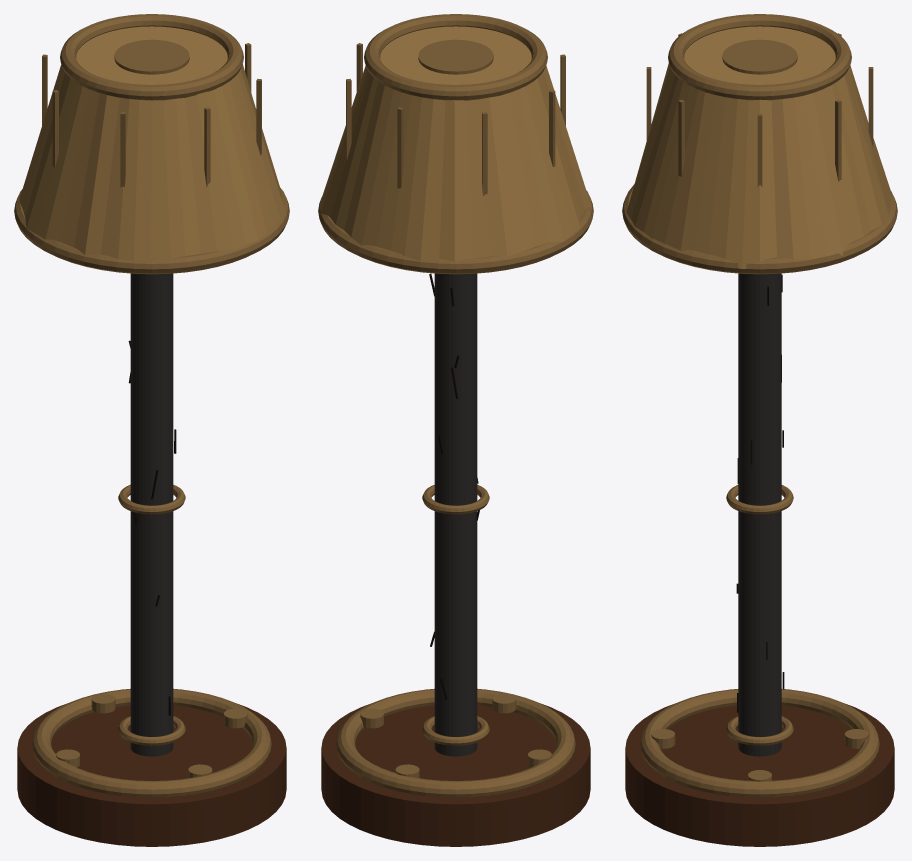
Rendered from lamp.glb.
3 renders of one model, left to right at view 1: azimuth 30°, elevation 25°; view 2: azimuth 150°, elevation 25°; view 3: azimuth 270°, elevation 25°, orthographic.
Visible parts, largest first — view 1: Baked Color Lamp Shade, Heavy Lamp Base, Vertical Lamp Pole, Brass Base Ring, Shade Top Brass Ring, Shade Bottom Brass Ring, Shade Support, Pole Brass Ring 2, Pole Brass Ring 1, Shade Decorative Band 7; view 2: Baked Color Lamp Shade, Heavy Lamp Base, Vertical Lamp Pole, Brass Base Ring, Shade Top Brass Ring, Shade Bottom Brass Ring, Shade Support, Pole Brass Ring 2, Pole Brass Ring 1, Shade Decorative Band 3; view 3: Baked Color Lamp Shade, Heavy Lamp Base, Vertical Lamp Pole, Brass Base Ring, Shade Top Brass Ring, Shade Bottom Brass Ring, Shade Support, Pole Brass Ring 2, Pole Brass Ring 1, Shade Decorative Band 2.
Boxes of the visible parts, x1=… form: Baked Color Lamp Shade: x1=20, y1=26, x2=285, y2=260; Heavy Lamp Base: x1=17, y1=703, x2=286, y2=846; Vertical Lamp Pole: x1=130, y1=273, x2=173, y2=756; Brass Base Ring: x1=32, y1=688, x2=271, y2=797; Shade Top Brass Ring: x1=60, y1=14, x2=243, y2=100; Shade Bottom Brass Ring: x1=14, y1=187, x2=289, y2=274; Shade Support: x1=114, y1=39, x2=189, y2=74; Pole Brass Ring 2: x1=118, y1=484, x2=185, y2=514; Pole Brass Ring 1: x1=118, y1=716, x2=185, y2=745; Shade Decorative Band 7: x1=204, y1=107, x2=210, y2=186; Baked Color Lamp Shade: x1=319, y1=26, x2=590, y2=261; Heavy Lamp Base: x1=321, y1=703, x2=590, y2=846; Vertical Lamp Pole: x1=434, y1=273, x2=477, y2=756; Brass Base Ring: x1=336, y1=688, x2=575, y2=797; Shade Top Brass Ring: x1=364, y1=14, x2=547, y2=100; Shade Bottom Brass Ring: x1=318, y1=190, x2=593, y2=274; Shade Support: x1=418, y1=39, x2=493, y2=74; Pole Brass Ring 2: x1=422, y1=484, x2=489, y2=514; Pole Brass Ring 1: x1=422, y1=716, x2=489, y2=745; Shade Decorative Band 3: x1=397, y1=107, x2=403, y2=188; Baked Color Lamp Shade: x1=626, y1=26, x2=891, y2=268; Heavy Lamp Base: x1=625, y1=703, x2=894, y2=846; Vertical Lamp Pole: x1=738, y1=273, x2=781, y2=756; Brass Base Ring: x1=640, y1=689, x2=879, y2=797; Shade Top Brass Ring: x1=668, y1=14, x2=851, y2=100; Shade Bottom Brass Ring: x1=622, y1=184, x2=897, y2=274; Shade Support: x1=722, y1=39, x2=797, y2=74; Pole Brass Ring 2: x1=726, y1=485, x2=793, y2=514; Pole Brass Ring 1: x1=726, y1=716, x2=793, y2=745; Shade Decorative Band 2: x1=835, y1=99, x2=841, y2=181.
Bounding box in the file's own units: 2.05 × 6.12 × 2.05.
